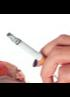Cigarette: (4, 32, 48, 64)
